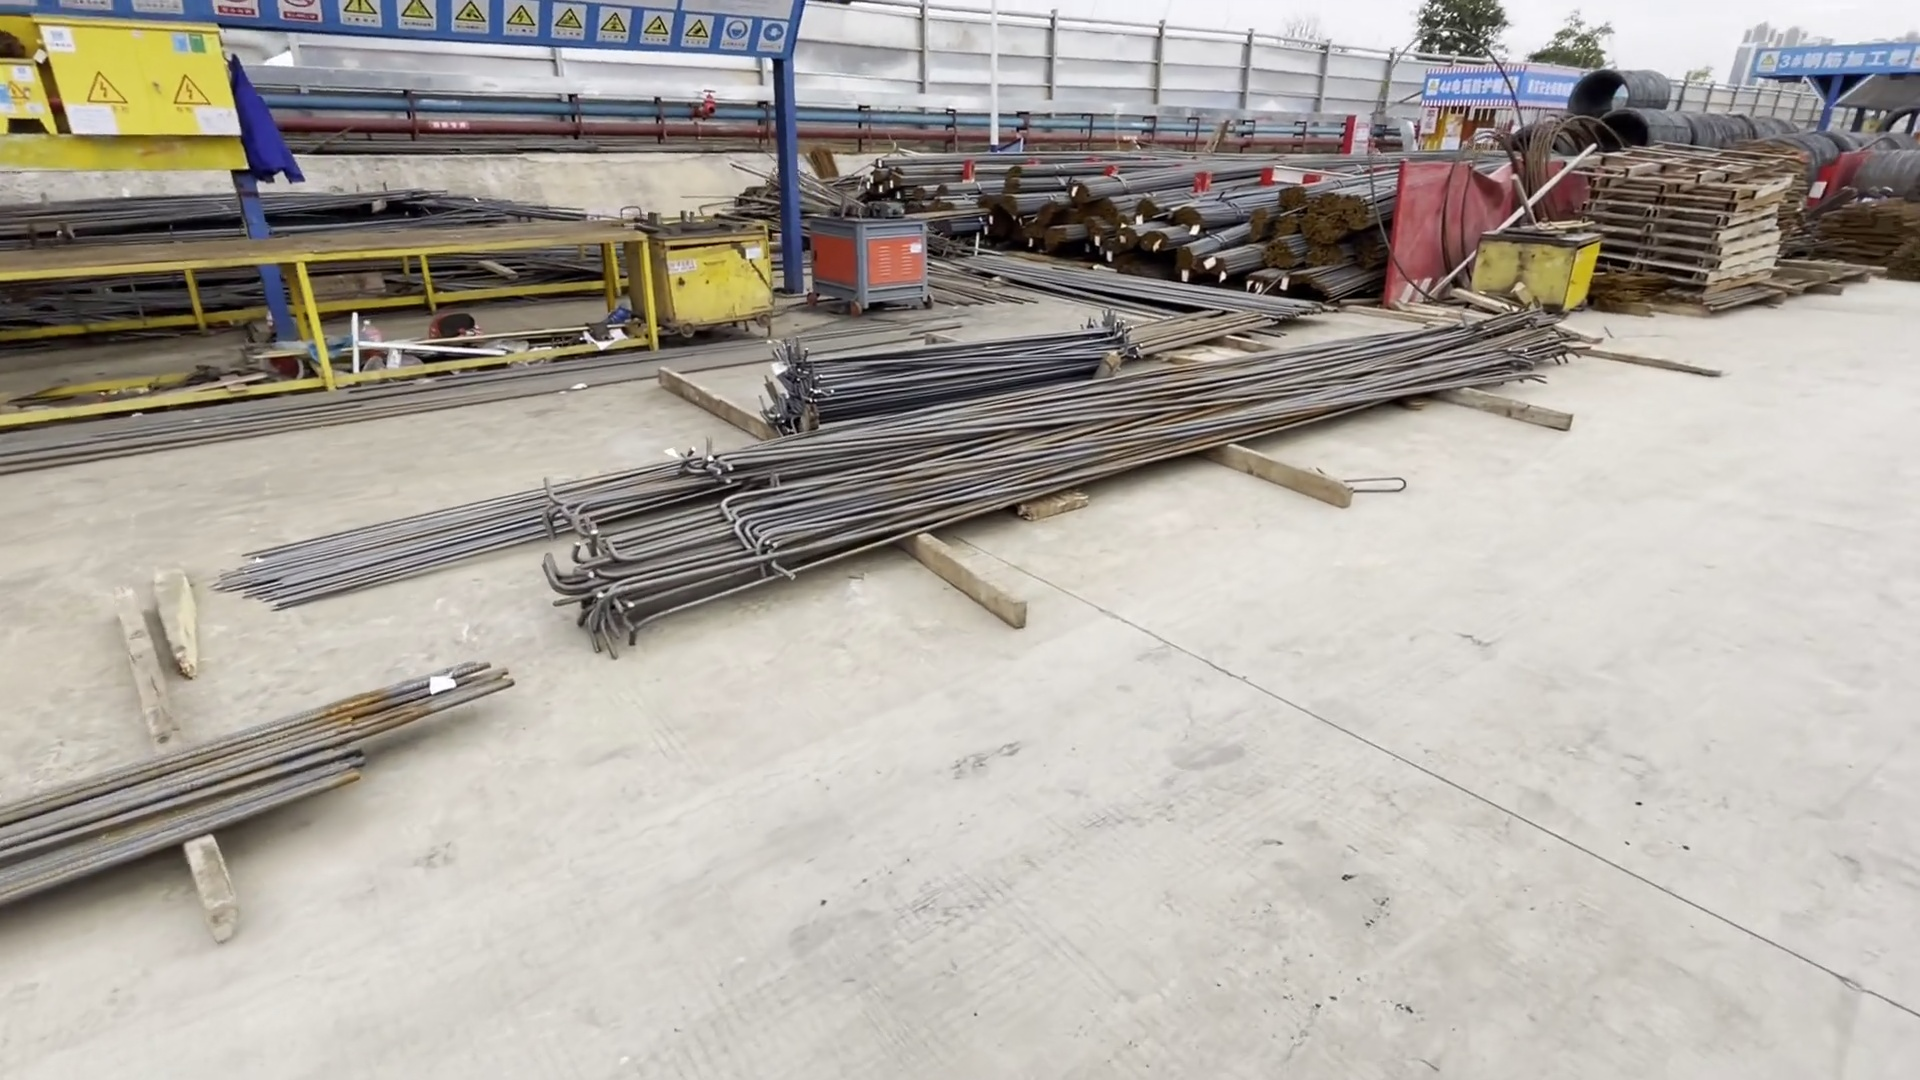ebox: (1, 22, 255, 169)
rebar: (1, 298, 1581, 923), (865, 142, 1393, 345)
slogan: (305, 1, 802, 61)
